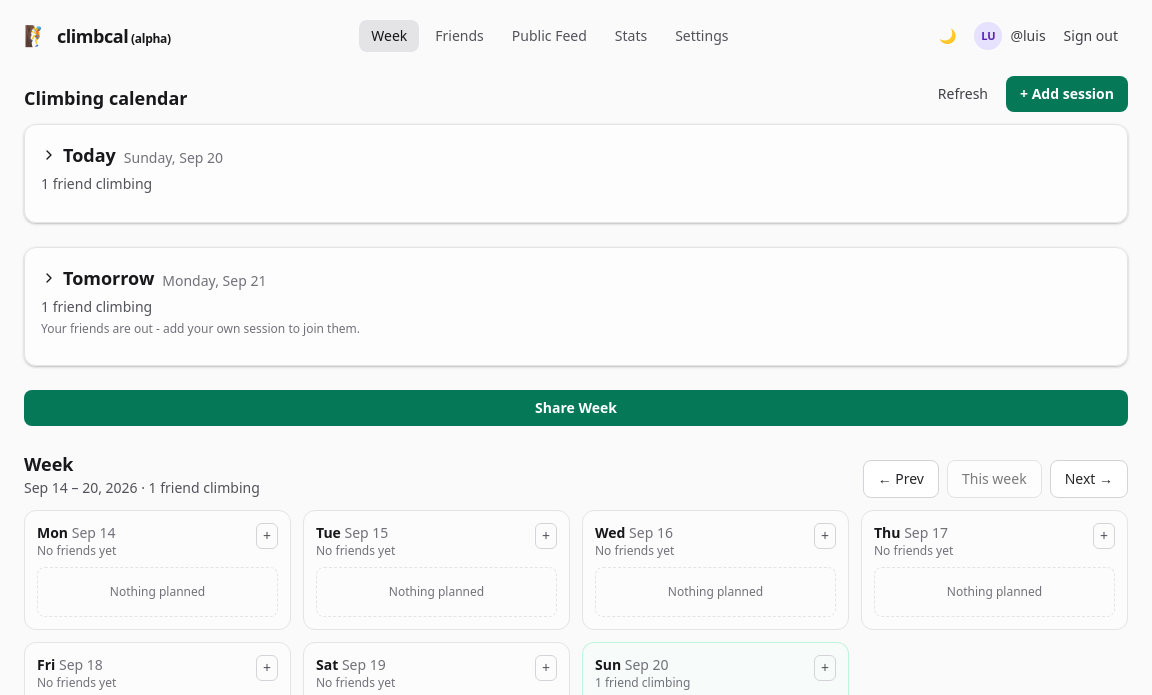
Test: <Week /> day views › opens a folded day card and folds it back, closed by default
The image size is (1152, 695).
Expected: the button "Edit" is not shown
Click the button "Today".
click(78, 155)  # box [41,141,116,169]
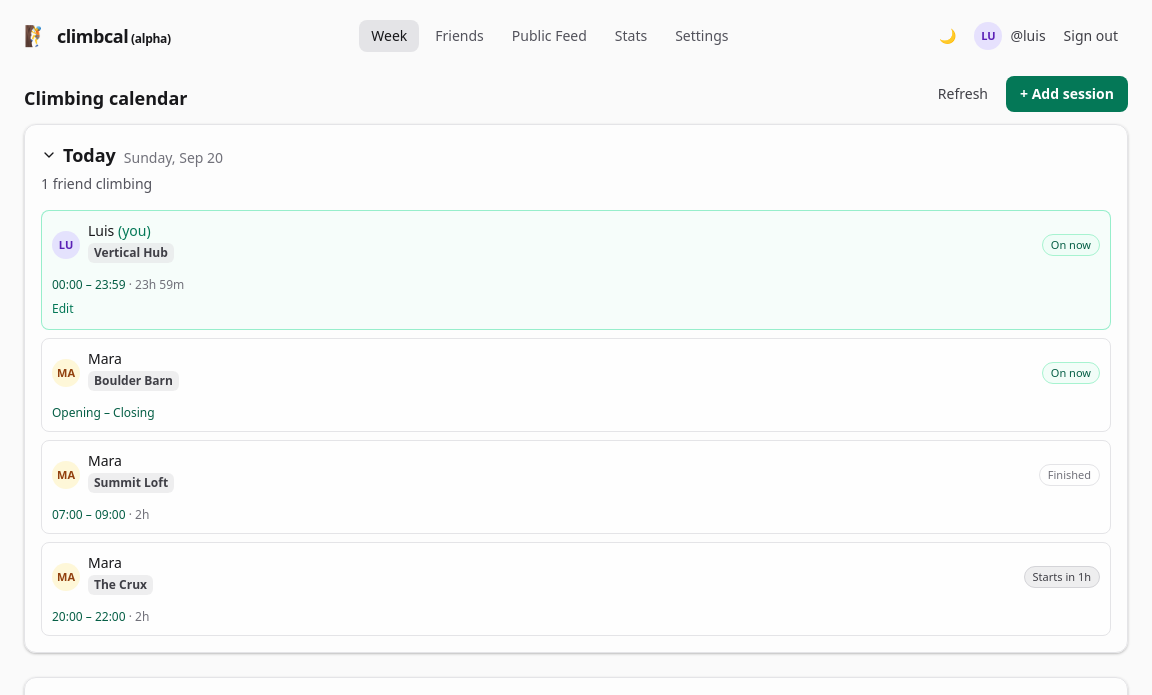
Now the button "Today" is expanded, box [41,141,116,169]
Now the button "Edit" is shown, box [52,301,74,317]
Click the element showing "Today Sunday, Sep 20 1 friend climbing".
click(132, 167)  # box [41,141,223,193]
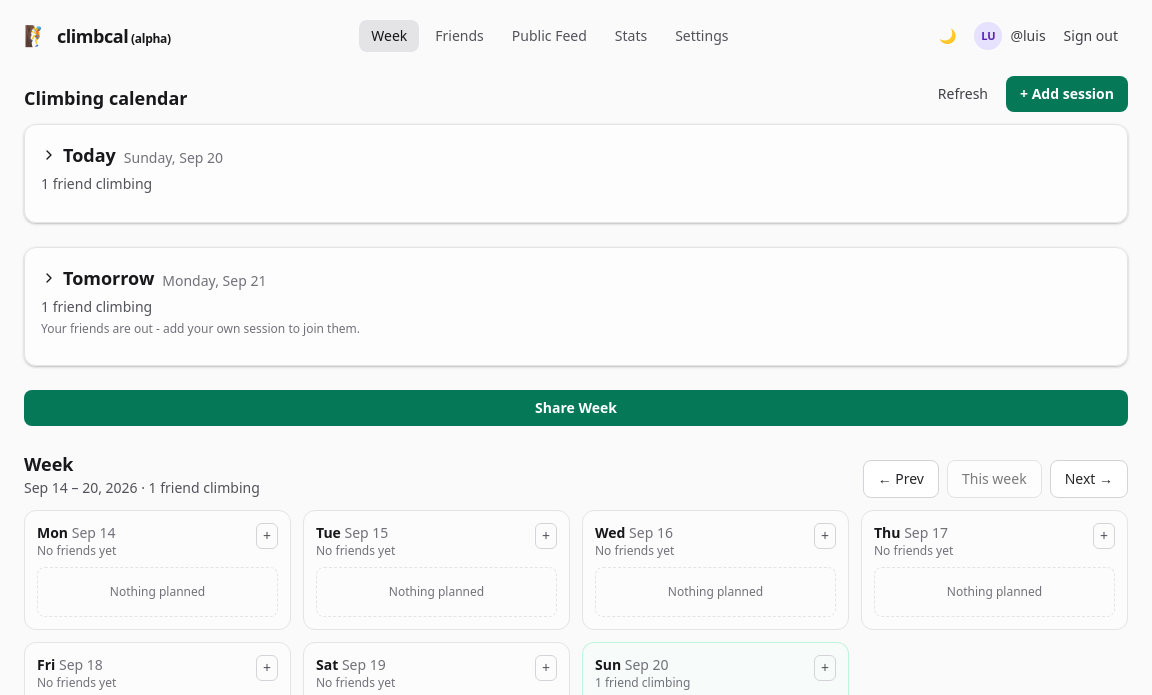
Expected: the button "Edit" is not shown
Now the button "Today" is collapsed, box [41,141,116,169]
